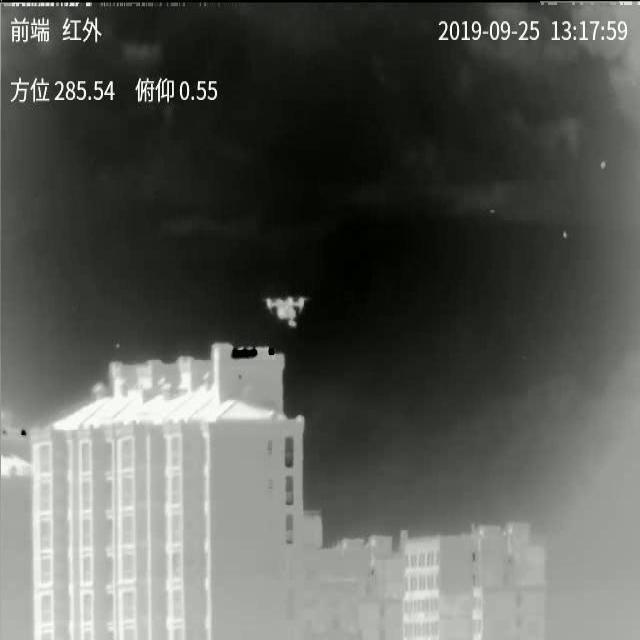drone: (265, 297, 309, 327)
